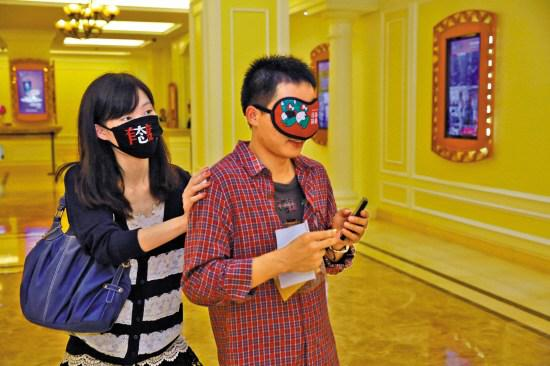OK: (108, 98, 167, 157)
WRONG: (259, 96, 316, 159)
